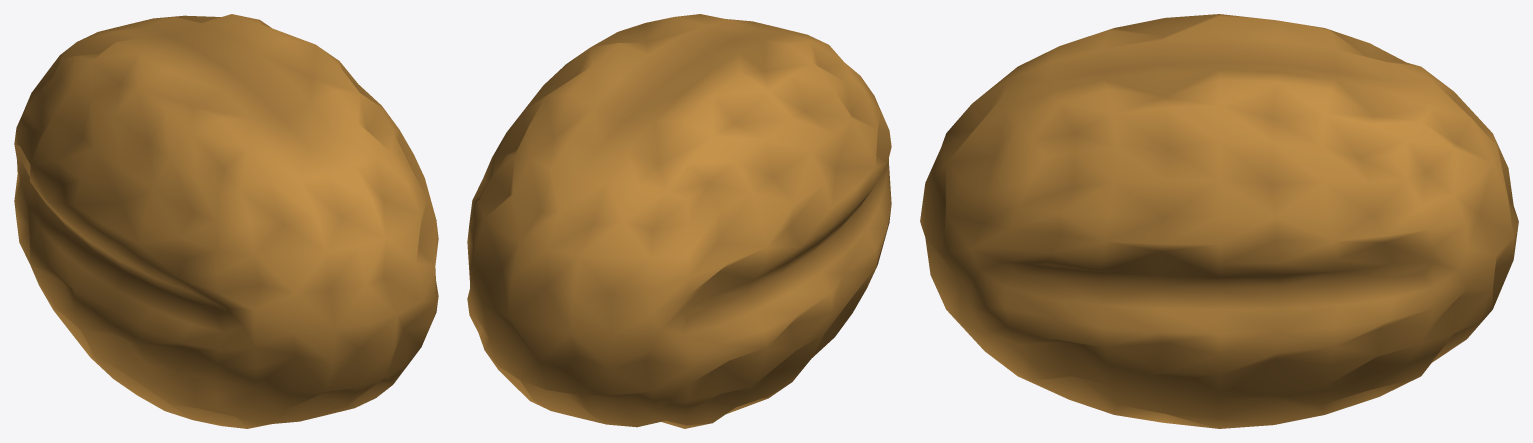
3 views of the same model, side by side, from view 1: azimuth 30°, elevation 25°; view 2: azimuth 150°, elevation 25°; view 3: azimuth 270°, elevation 25° (orthographic). The views are drawn at different scales.
Parts seen in each view (by area): view 1: alt1.217; view 2: alt1.217; view 3: alt1.217.
Boxes of the visible parts, box(x1,y1,x2,y2) form: alt1.217: box(14, 14, 438, 428); alt1.217: box(467, 14, 891, 428); alt1.217: box(920, 14, 1518, 428).
Bounding box in the file's own units: 0.3098 × 0.3196 × 0.5.
